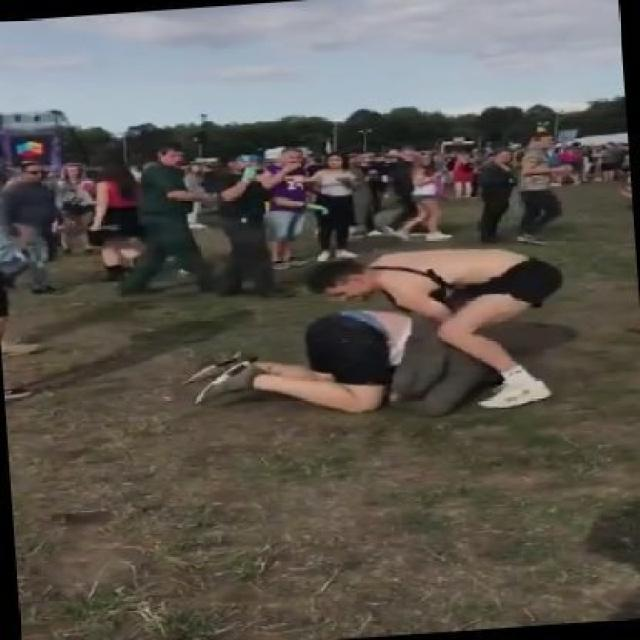fight: (186, 209, 579, 463)
